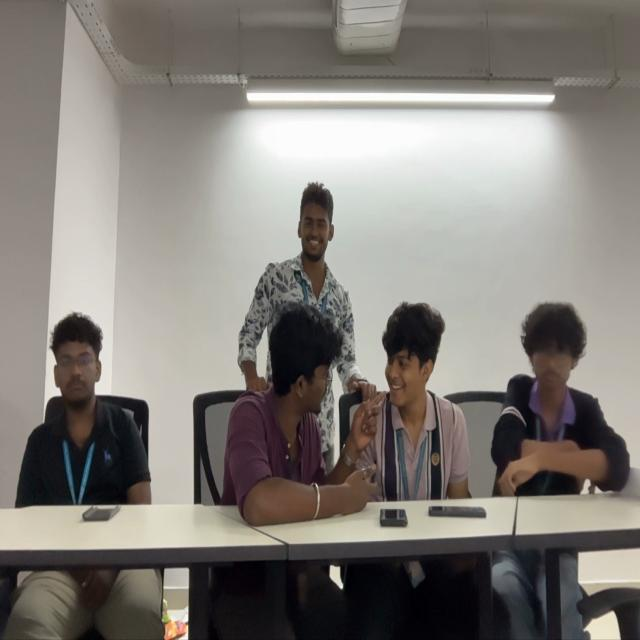Isolated: (489, 298, 629, 494), (18, 314, 151, 505)
socializing: (224, 182, 470, 528)
